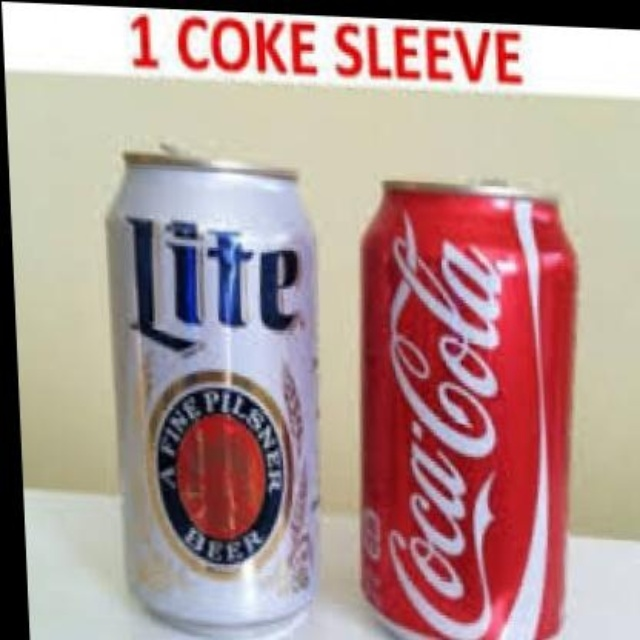trash: (108, 152, 317, 626), (362, 182, 575, 638)
